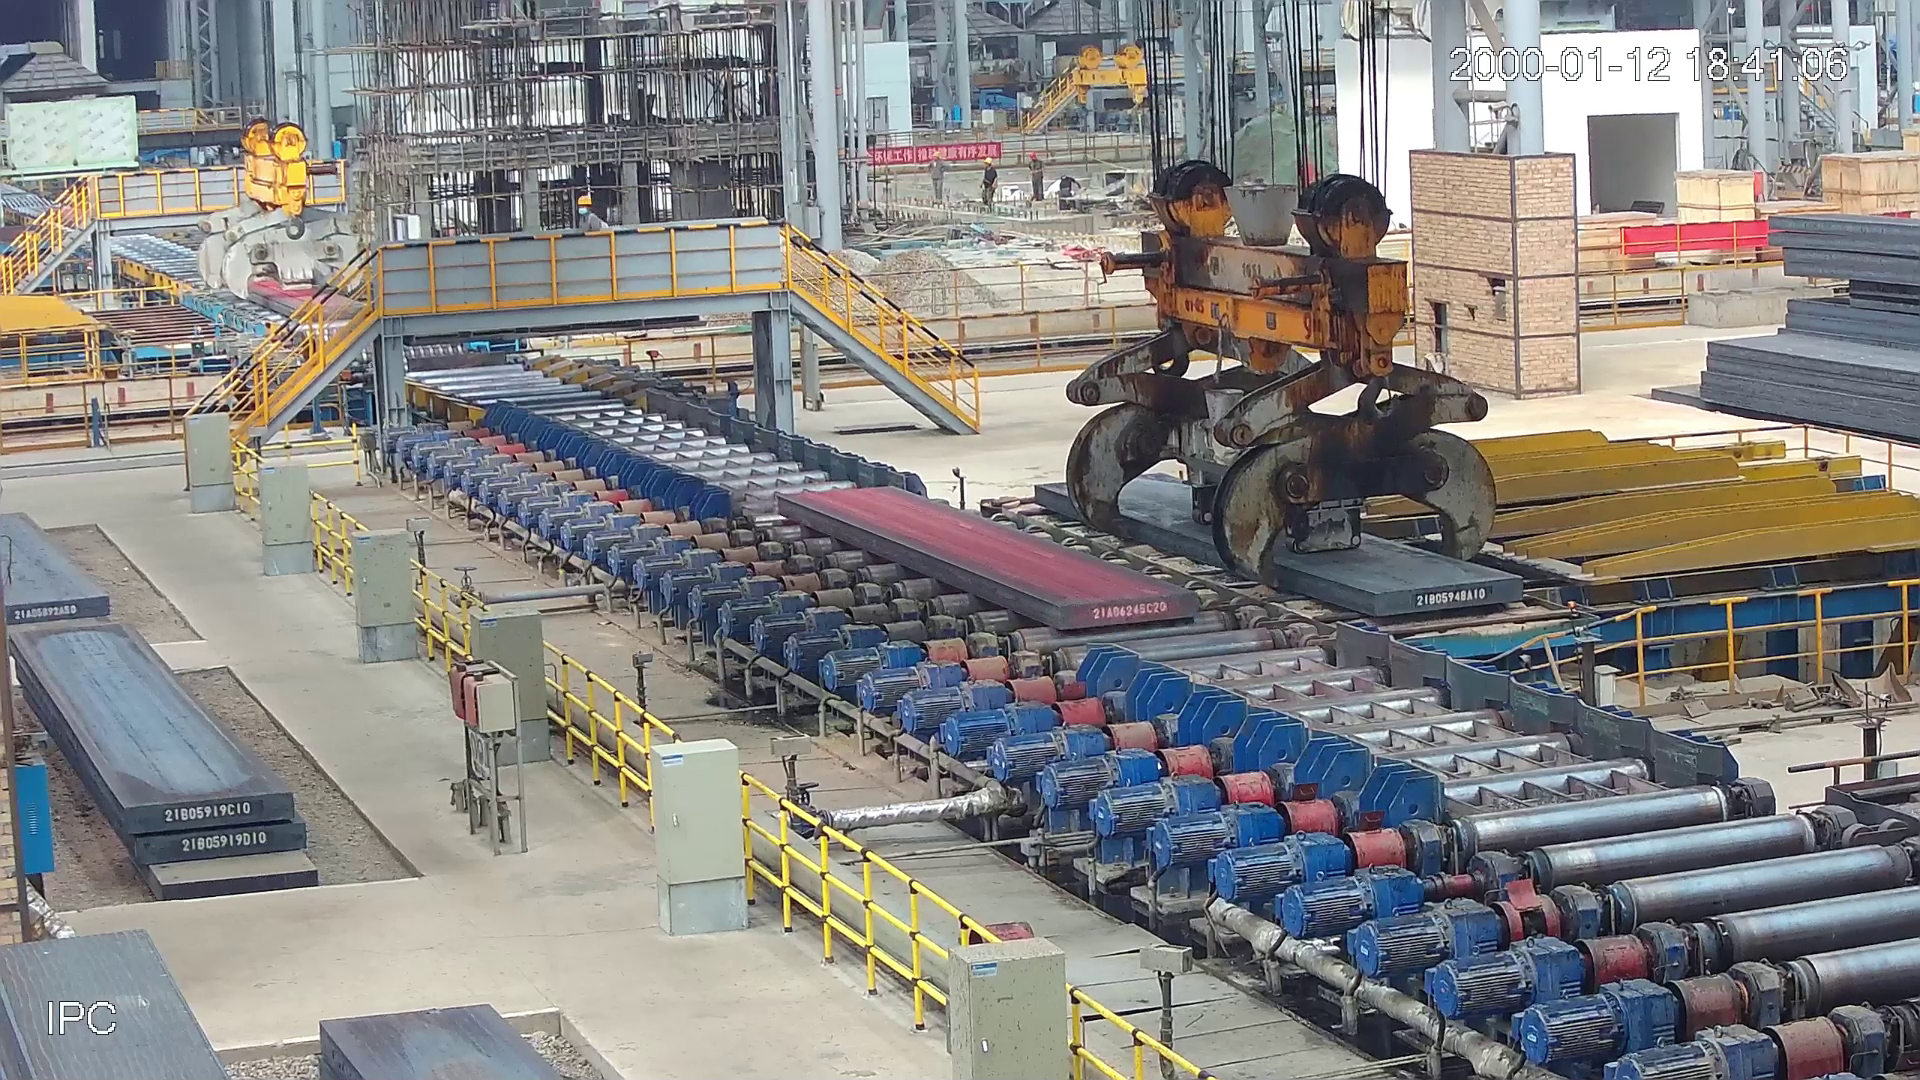craneandslab: (1025, 156, 1524, 629), (193, 112, 378, 328)
slab: (767, 481, 1213, 640)
